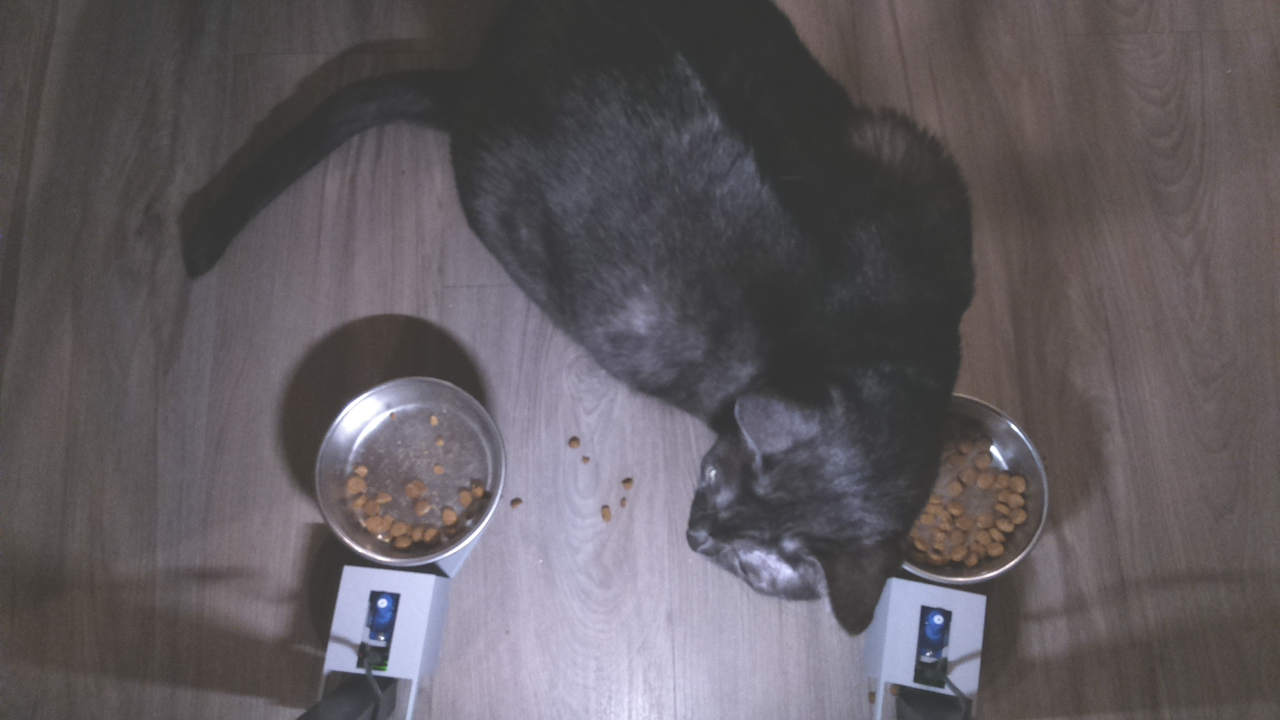open_bowl: (313, 373, 508, 572), (909, 390, 1052, 586)
saki: (659, 350, 958, 643)
